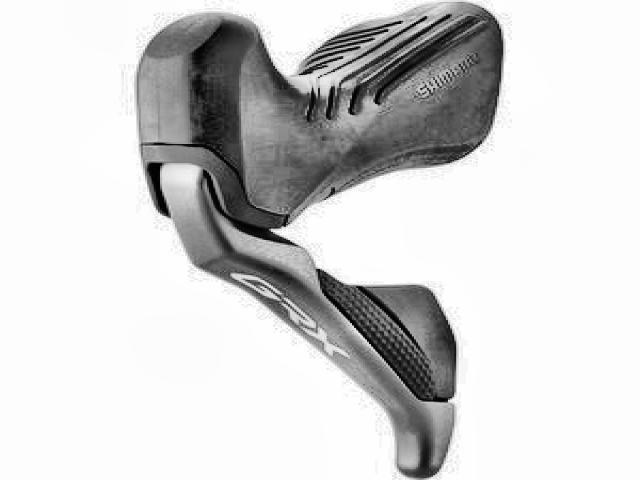sti_shifter: (134, 0, 495, 472)
